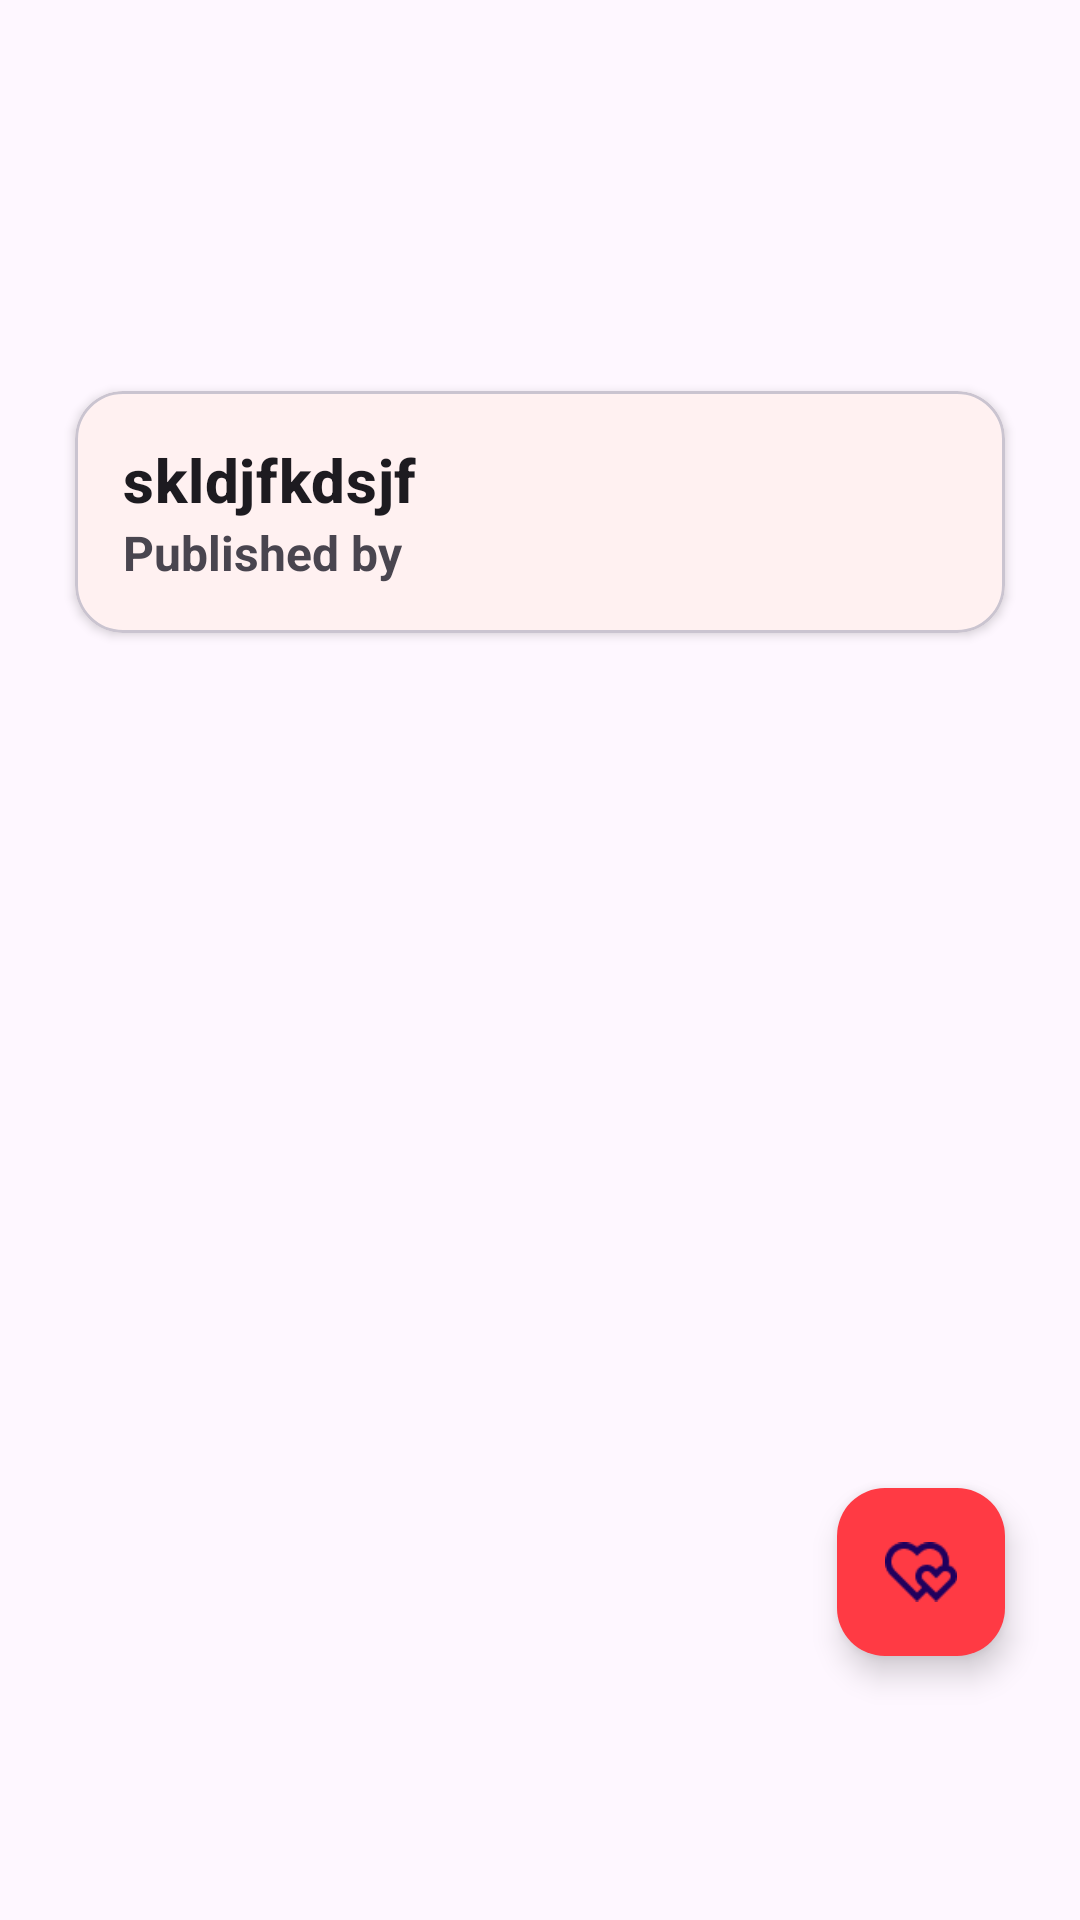

Icon bounding boxes for this 1080 x 1920 phone screenshot, format [left=x1, top=y1, right=x2, bottom=y2]:
favorites: [left=837, top=1488, right=1005, bottom=1656]
